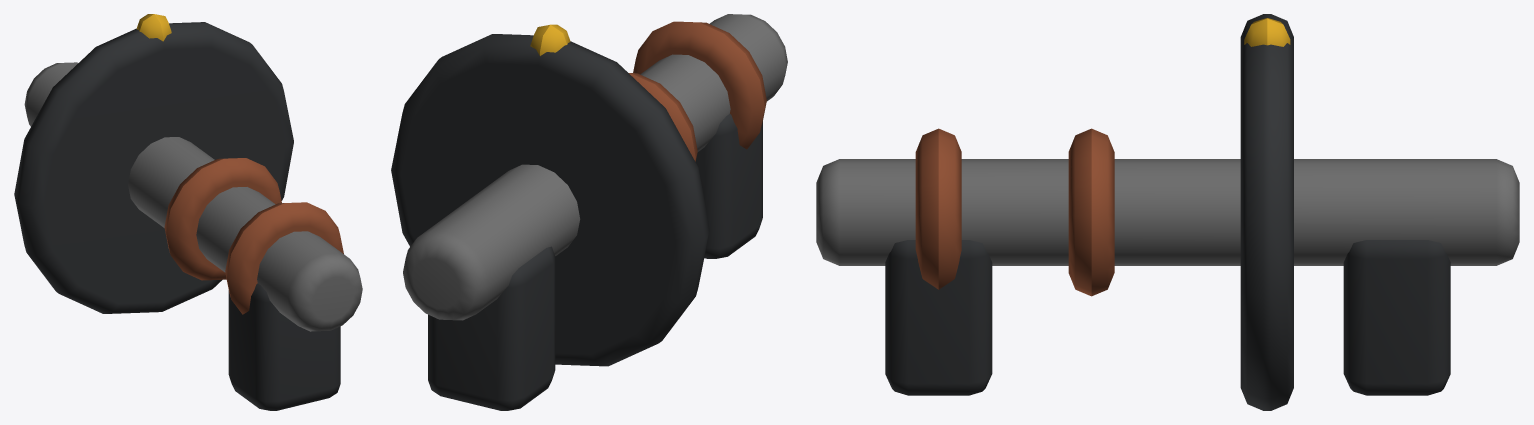
File: s-driveshaft.glb
3 views of the same model, side by side, from view 1: azimuth 30°, elevation 25°; view 2: azimuth 150°, elevation 25°; view 3: azimuth 270°, elevation 25° (orthographic). The views are drawn at different scales.
Parts seen in each view (by area): view 1: s-driveshaft; view 2: s-driveshaft; view 3: s-driveshaft.
Part boxes in pixels (box(x1,y1,x2,y2)): s-driveshaft: box(14, 14, 362, 410); s-driveshaft: box(391, 14, 787, 410); s-driveshaft: box(816, 14, 1519, 410).
Size of the model in its own units: 0.52 by 0.54 by 0.92.
